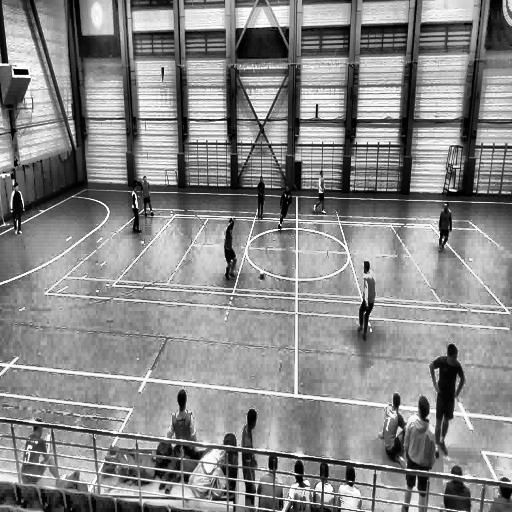ball: (258, 269, 266, 282)
player: (400, 395, 436, 510), (432, 344, 464, 456), (357, 261, 376, 340), (224, 219, 237, 282), (437, 199, 452, 252), (11, 180, 25, 234), (277, 184, 293, 231), (312, 170, 326, 212), (131, 183, 142, 233), (141, 176, 154, 217), (255, 176, 266, 218)
